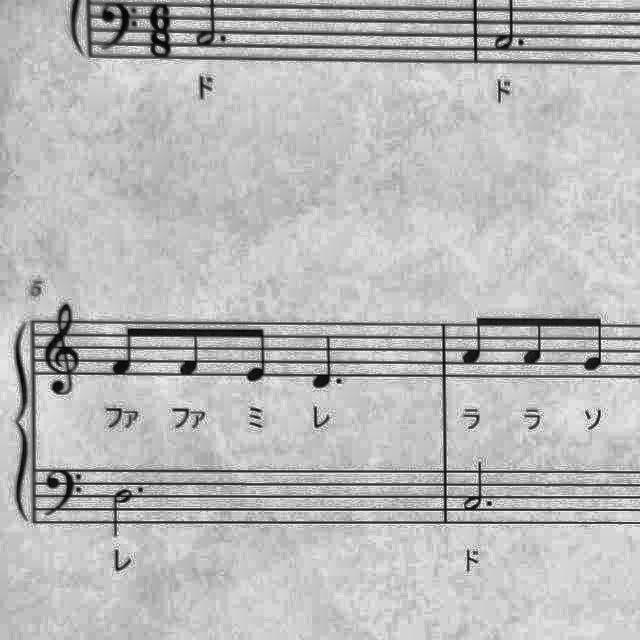Bass-clef: (40, 465, 90, 523), (93, 0, 140, 56)
Eighth-note: (238, 320, 278, 388), (104, 318, 144, 382), (575, 312, 613, 378), (458, 308, 494, 372), (174, 320, 210, 384), (519, 312, 553, 372)
Half-dot: (104, 481, 148, 544), (458, 459, 502, 517), (486, 1, 530, 52), (192, 1, 236, 51)
Quarter-dot: (308, 329, 347, 395)
Treble-clef: (40, 297, 90, 403)
